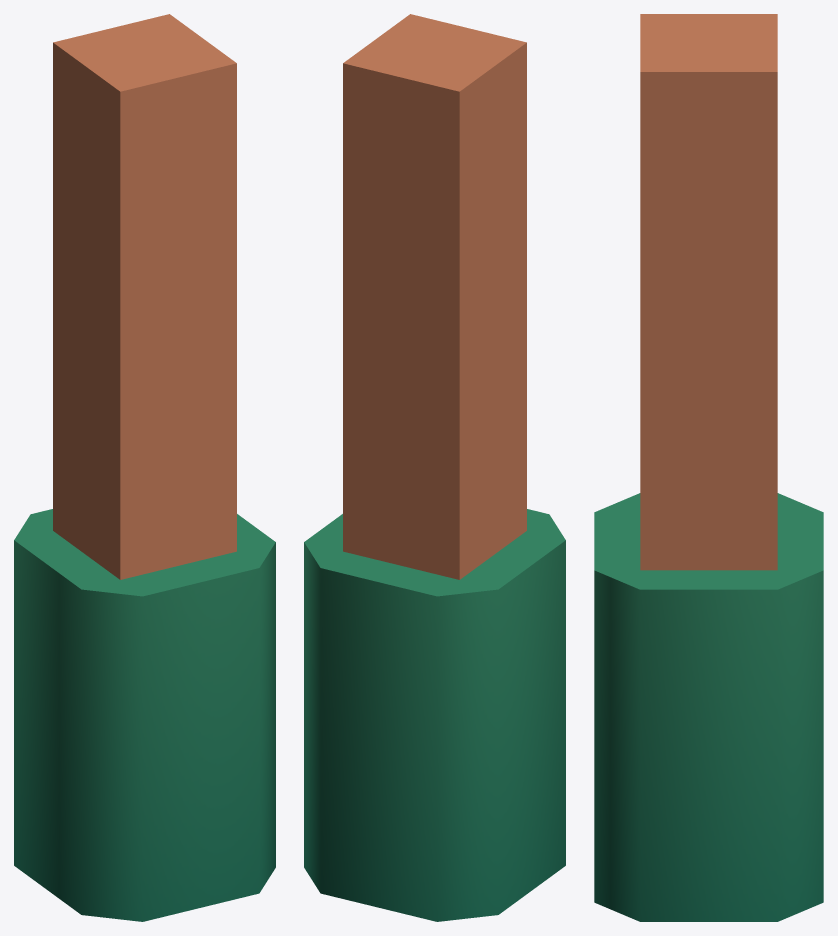
File: cabin-corner-bottom.glb
3 renders of one model, left to right at view 1: azimuth 30°, elevation 25°; view 2: azimuth 150°, elevation 25°; view 3: azimuth 270°, elevation 25°, orthographic. The views are drawn at different scales.
Visible parts, largest first — view 1: cabin-corner-bottom; view 2: cabin-corner-bottom; view 3: cabin-corner-bottom.
Part boxes in pixels (left/top/right/bottom): cabin-corner-bottom: left=14, top=14, right=275, bottom=921; cabin-corner-bottom: left=304, top=14, right=565, bottom=921; cabin-corner-bottom: left=594, top=14, right=823, bottom=921.
Size of the model in its own units: 0.25 by 1 by 0.25.
